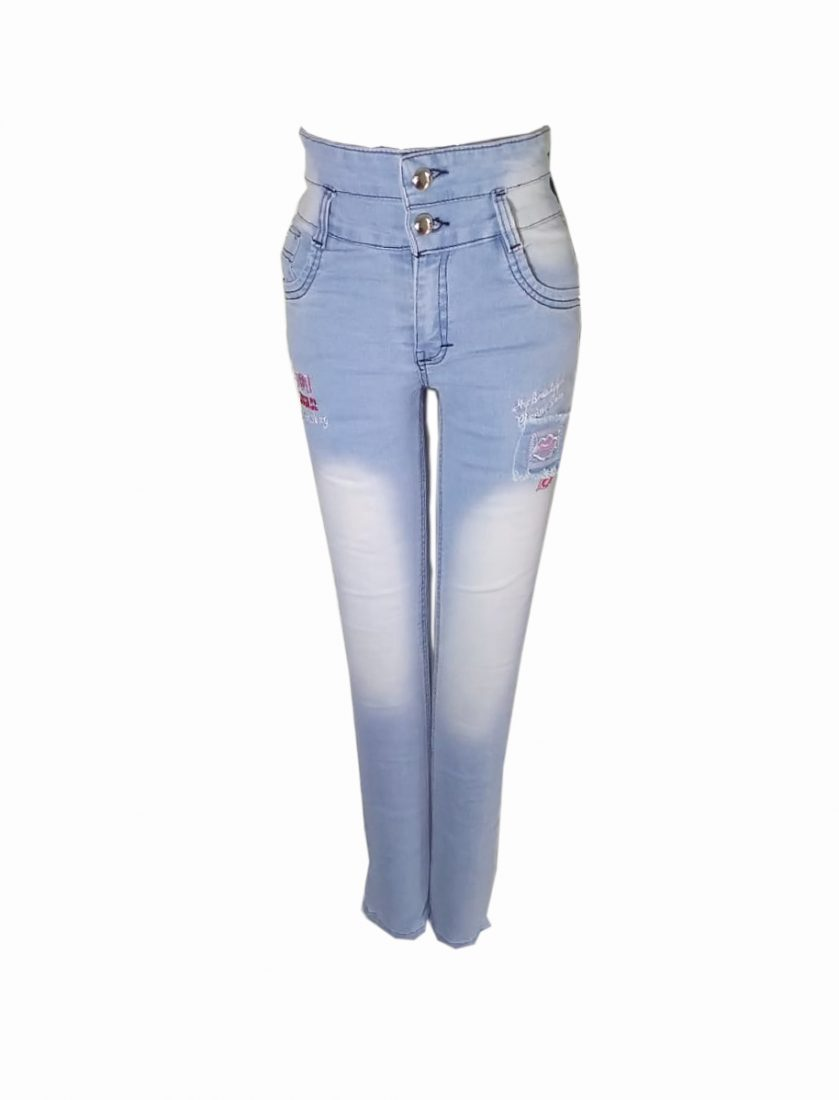jeans: (273, 114, 592, 954)
